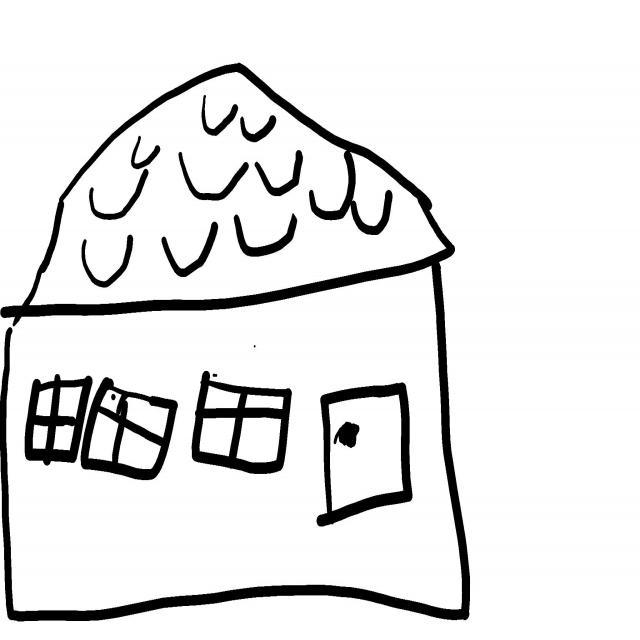door: (319, 386, 410, 526)
house: (0, 64, 470, 621)
roof: (8, 64, 453, 317)
wall: (2, 259, 464, 619)
window: (194, 372, 290, 475), (82, 379, 177, 481), (24, 375, 91, 466)
